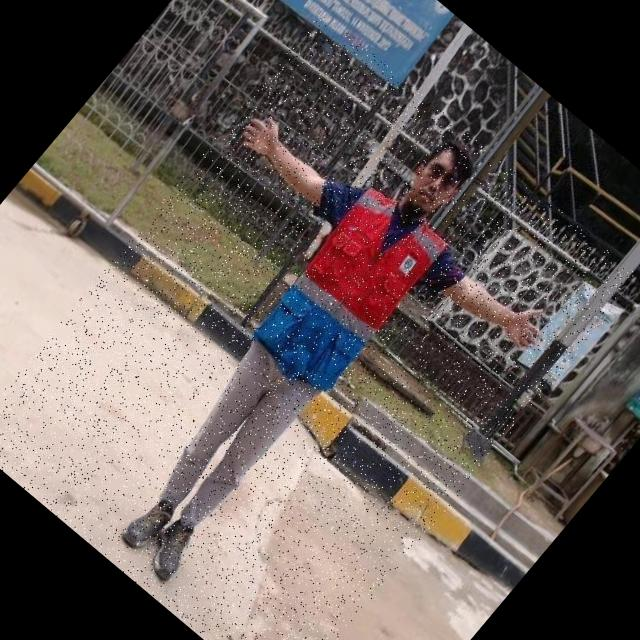safety_vest: (242, 180, 452, 402)
vehicle: (0, 10, 640, 640)
work_boots: (133, 508, 210, 588), (113, 488, 182, 561)
